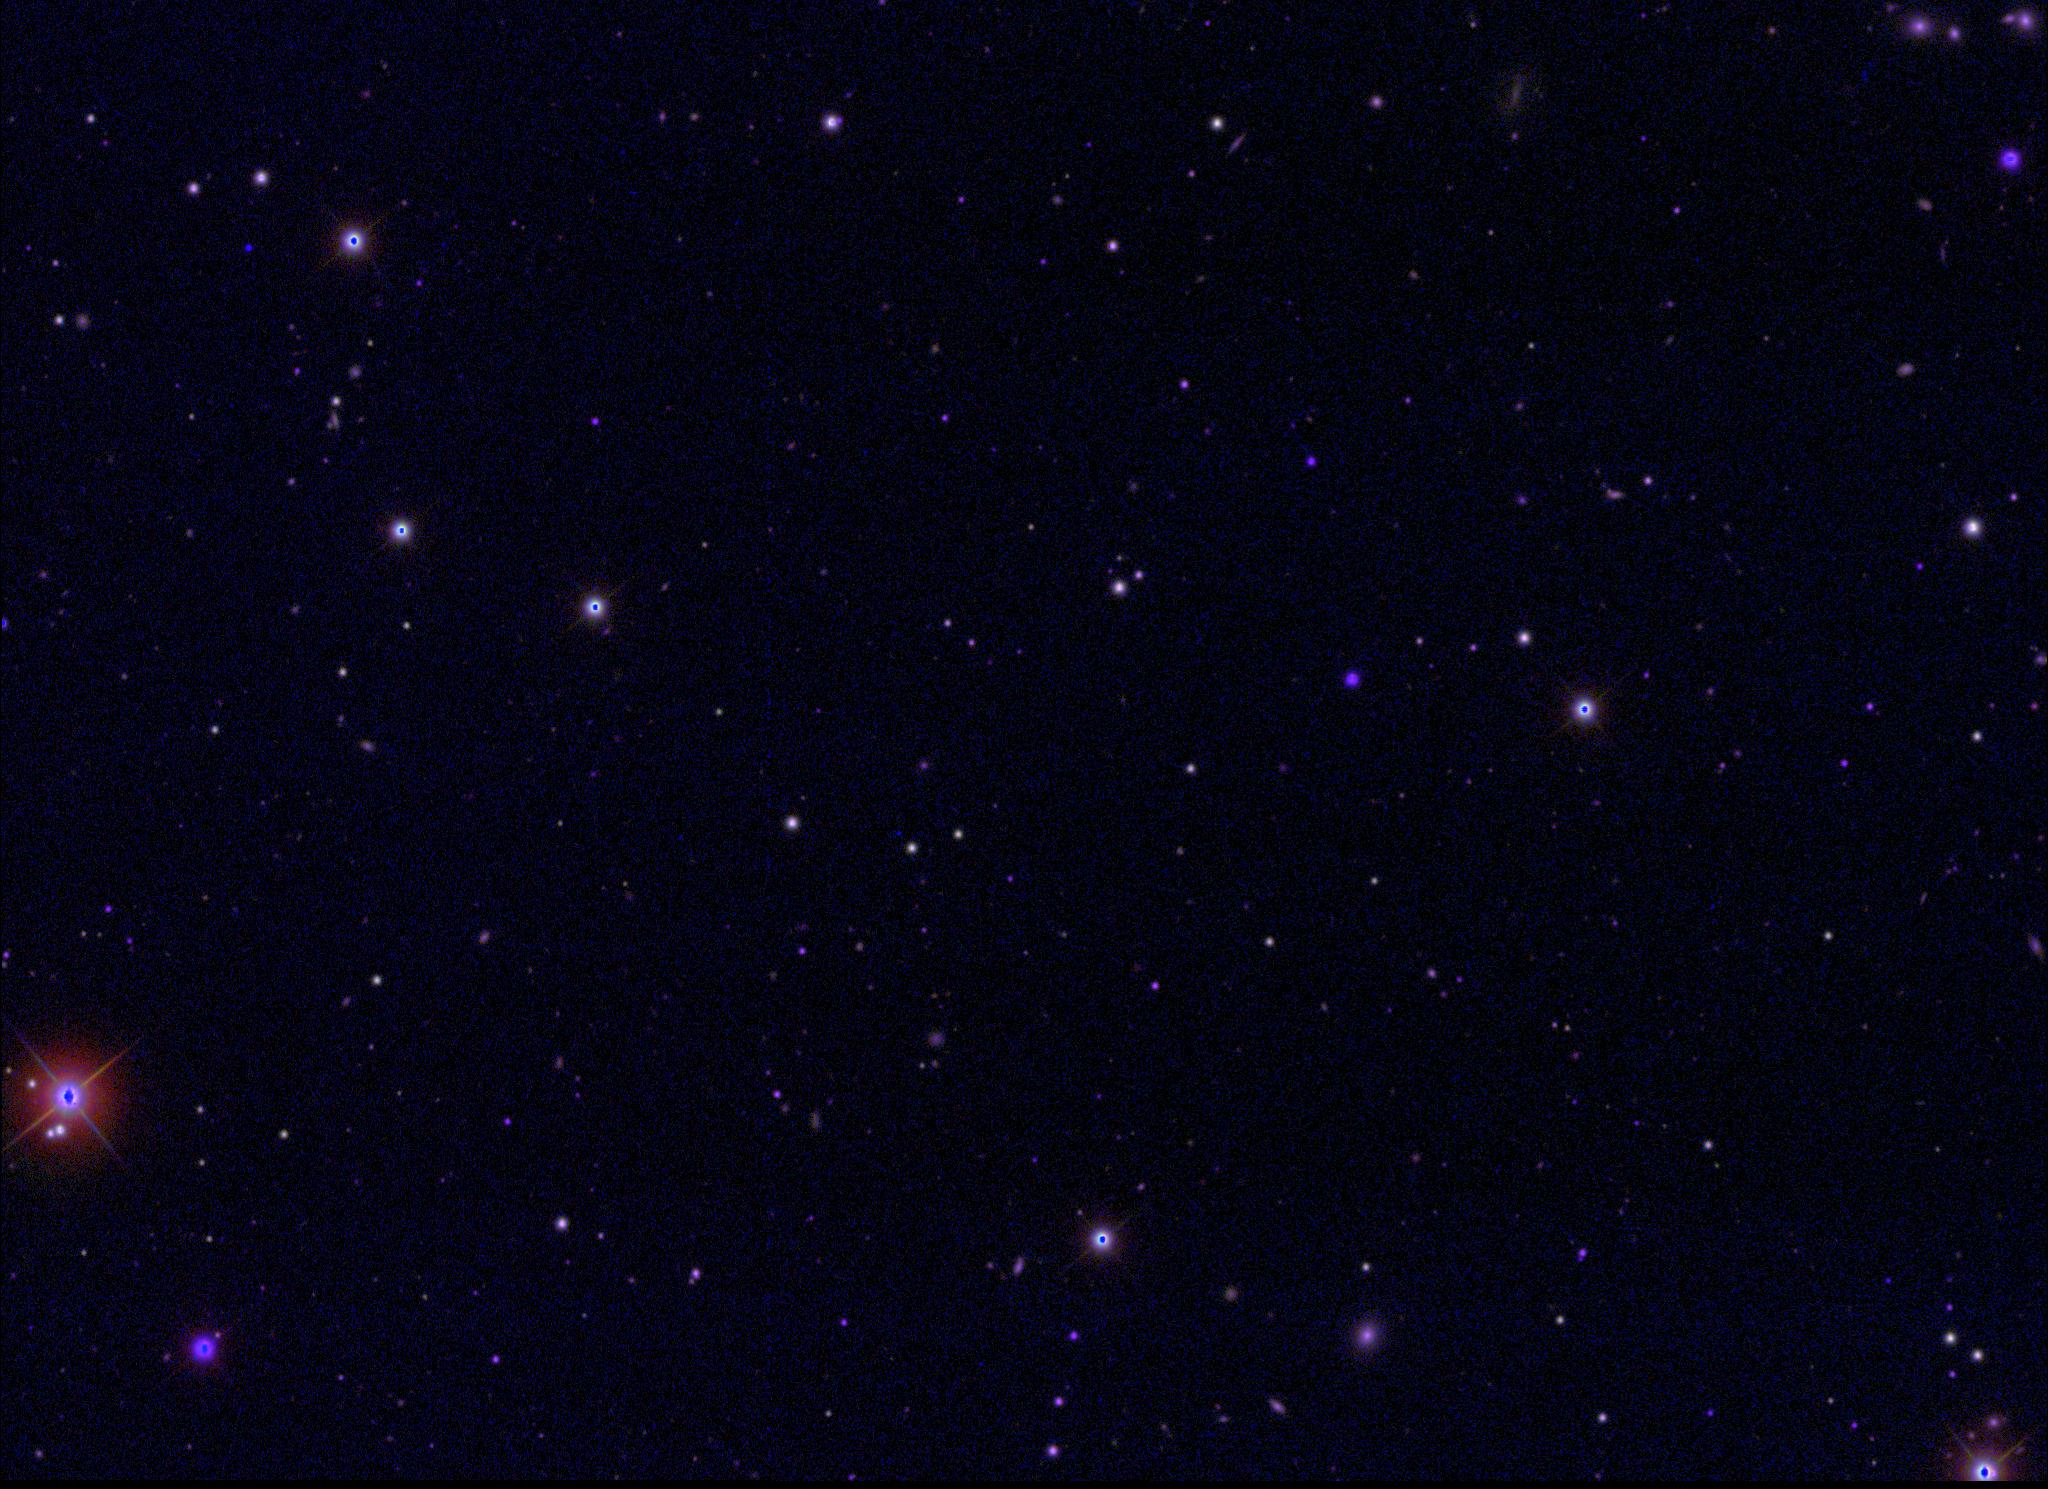L: (242, 242, 256, 256)
